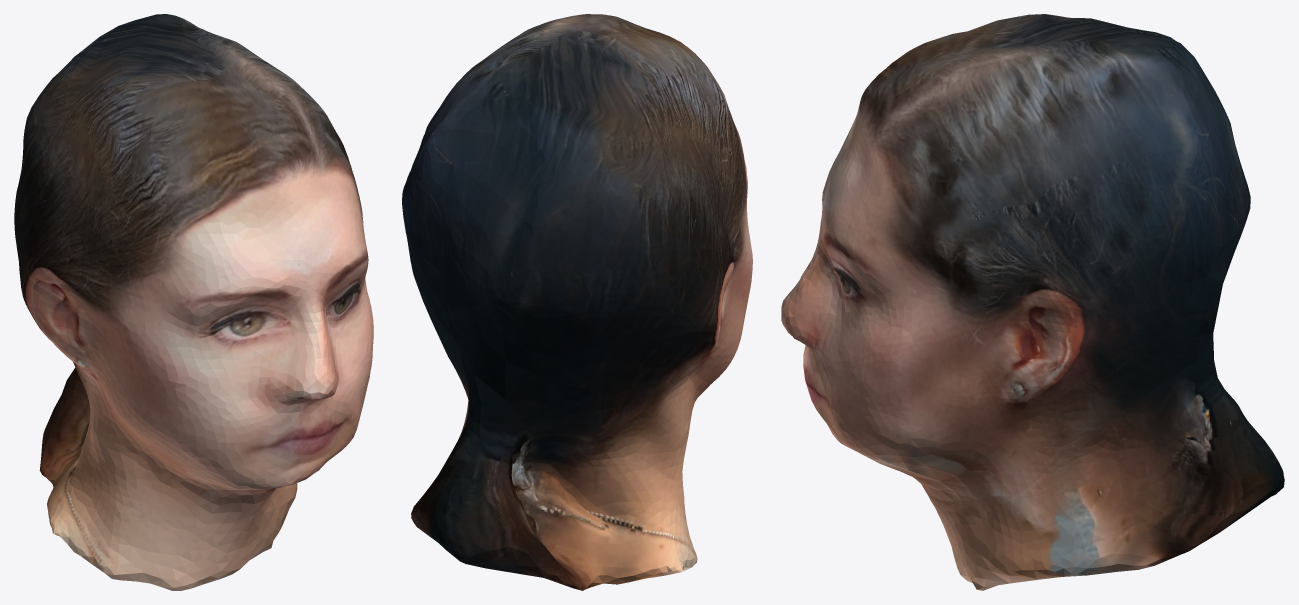
File: scarlet 1.FBX
3 renders of one model, left to right at view 1: azimuth 30°, elevation 25°; view 2: azimuth 150°, elevation 25°; view 3: azimuth 270°, elevation 25°, orthographic. The views are drawn at different scales.
Parts seen in each view (by area): view 1: Object_1; view 2: Object_1; view 3: Object_1.
Part boxes in pixels (left/top/right/bottom): Object_1: left=14, top=14, right=373, bottom=590; Object_1: left=402, top=14, right=752, bottom=590; Object_1: left=781, top=14, right=1284, bottom=590.
Bounding box in the file's own units: 224 × 371 × 308.
